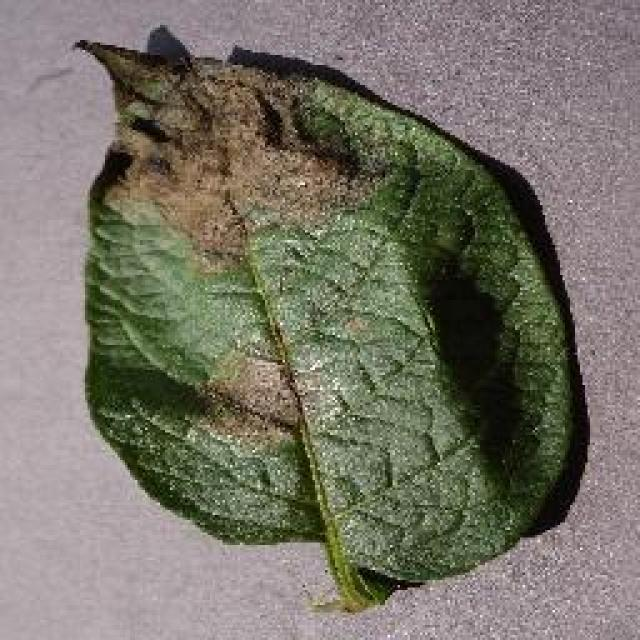Potato: (70, 22, 590, 612)
